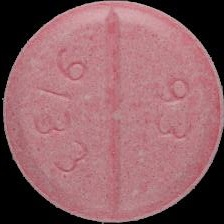51079-906: (0, 0, 224, 224)
